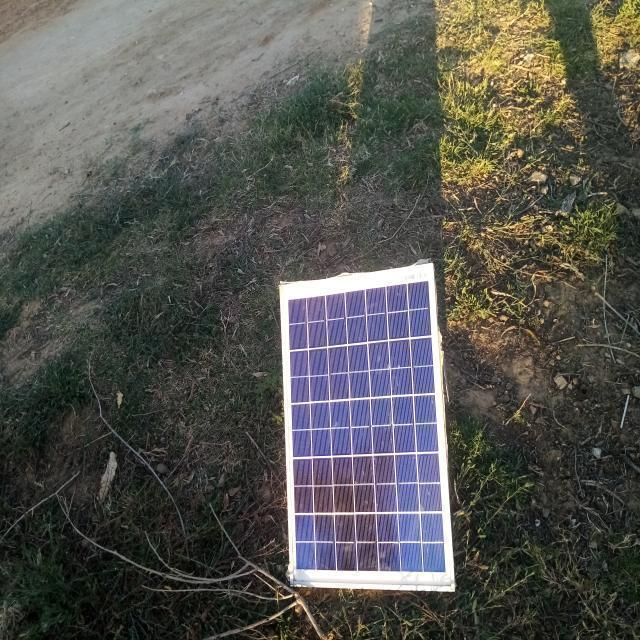Normal Solar Panel: (280, 264, 455, 590)
